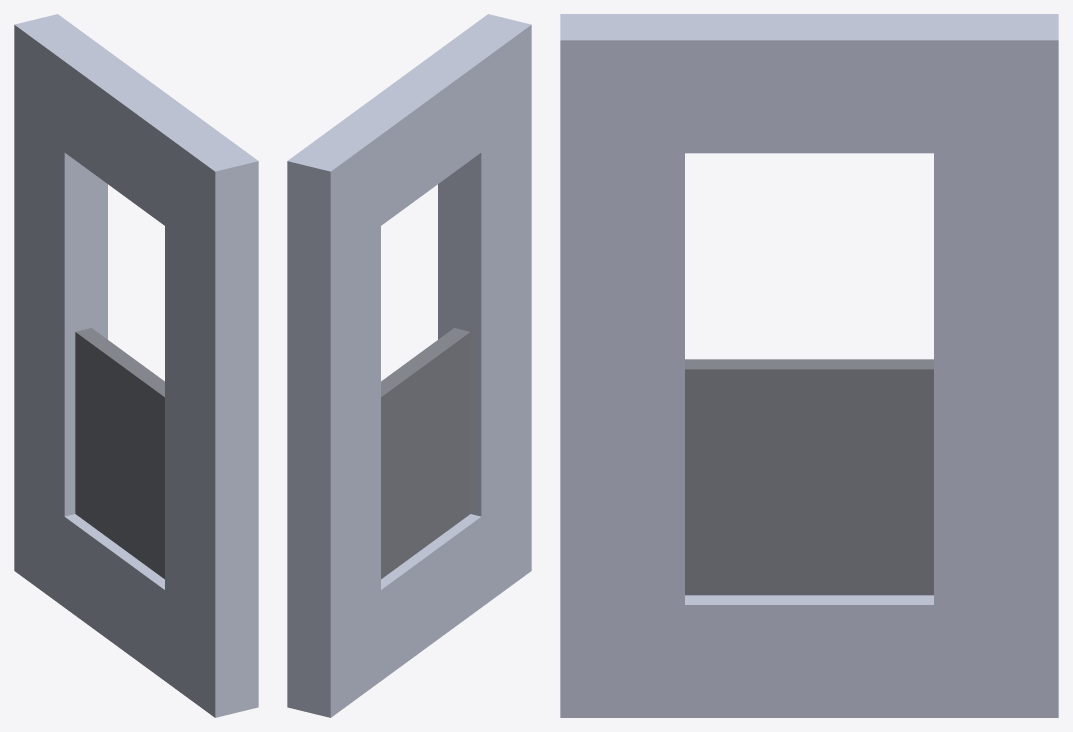
3 renders of one model, left to right at view 1: azimuth 30°, elevation 25°; view 2: azimuth 150°, elevation 25°; view 3: azimuth 270°, elevation 25°, orthographic. The views are drawn at different scales.
Parts seen in each view (by area): view 1: object_029; view 2: object_029; view 3: object_029.
Part boxes in pixels (box(x1,y1,x2,y2)): object_029: box(14, 14, 258, 717); object_029: box(287, 14, 531, 717); object_029: box(560, 14, 1058, 717).
Size of the model in its own units: 0.625 by 7.5 by 5.
